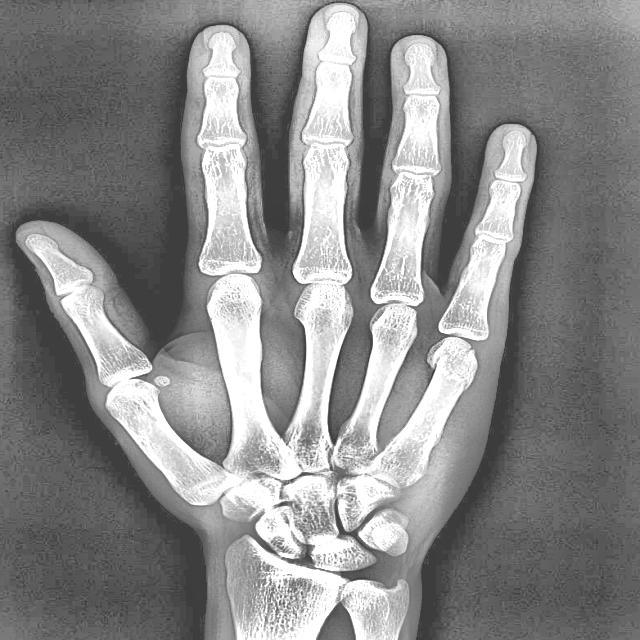fracture: (429, 346, 478, 391)
